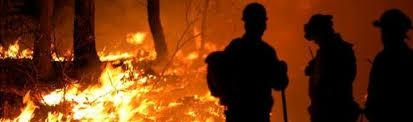fire: (0, 27, 230, 122)
